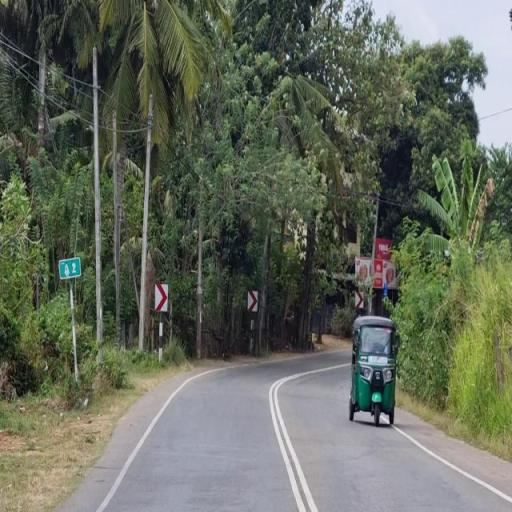double_white_line: (269, 366, 339, 510), (0, 34, 45, 91)
